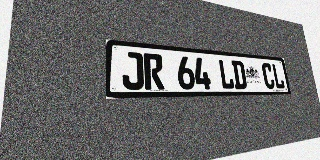4: (193, 57, 211, 89)
6: (176, 56, 196, 89)
C: (261, 63, 276, 89)
D: (231, 60, 247, 89)
J: (122, 51, 144, 90)
L: (218, 59, 235, 89), (271, 64, 285, 89)
R: (143, 53, 165, 90)
